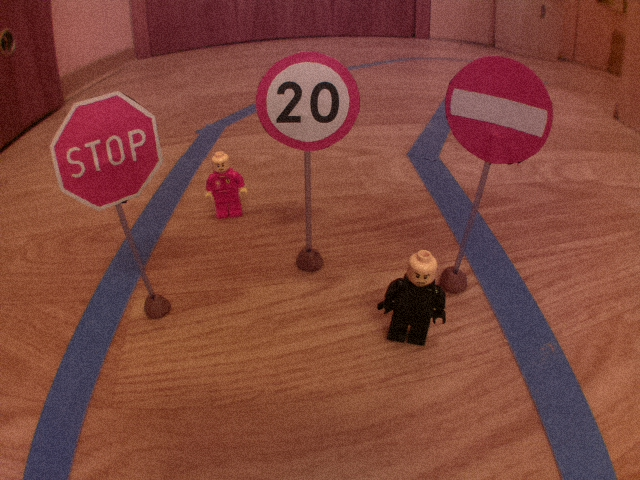LEGO_person: (374, 247, 451, 350), (201, 149, 250, 221)
ogr_20: (253, 49, 363, 153)
stop: (47, 89, 165, 215)
zakaz: (443, 53, 555, 166)
